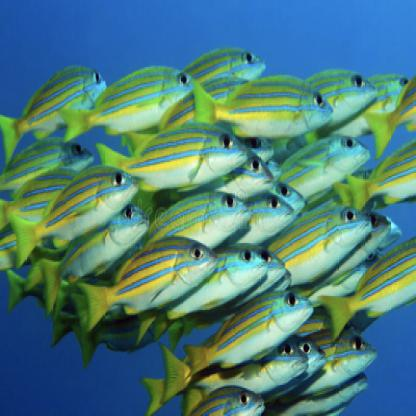snapper: (7, 157, 145, 274), (77, 230, 220, 342), (186, 60, 339, 157), (186, 282, 313, 392), (96, 121, 251, 204), (1, 63, 116, 173)
